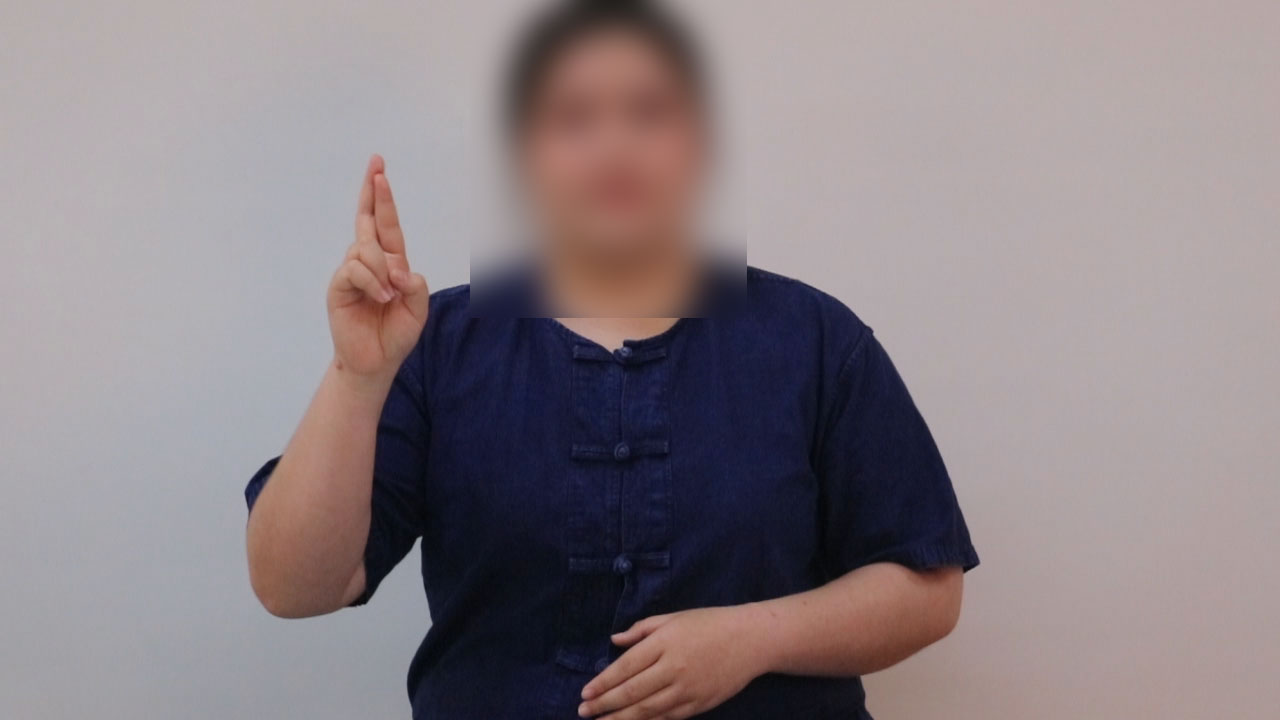rao: (303, 144, 442, 415)
